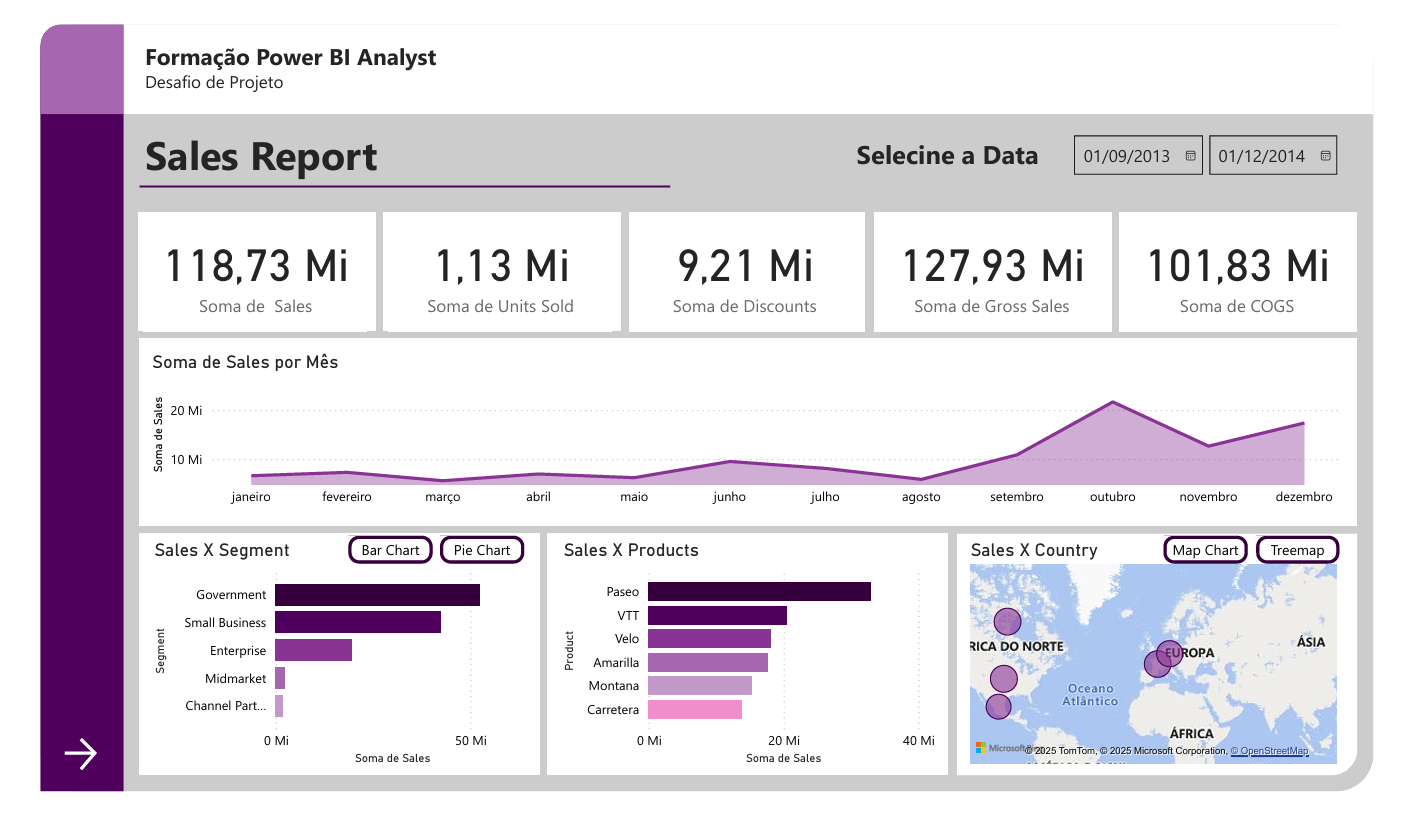

The dashboard page shown, as its layout file describes it:
{"tool":"powerbi","page":{"name":"Página 1","canvas":[1280,720],"ordinal":0},"visuals":[{"type":"group","id":"g1","title":"Fundo","box":[13.8,0,1251.1,719.8],"z":0},{"type":"shape","box":[13.8,0,1251.1,719.8],"z":0,"group":"g1"},{"type":"textbox","box":[107.4,9.6,300,66.1],"z":0,"group":"g4"},{"type":"textbox","box":[775.2,100.1,195.9,44.3],"z":0,"group":"g8"},{"type":"shape","box":[105.8,175.9,223.2,111.2],"z":0,"group":"g2"},{"type":"shape","box":[107.3,294.6,1142.7,175.9],"z":0,"group":"g3"},{"type":"areaChart","fields":{"Category":["financials.Date.Variation.Hierarquia de datas.Mês"],"Y":["Sum(financials. Sales)"]},"box":[114.1,306,1127,154.5],"z":0,"group":"g5"},{"type":"shape","box":[13.8,0,78.5,719.8],"z":1000,"group":"g1"},{"type":"textbox","box":[107.3,91.5,230.3,61.5],"z":1000,"group":"g4"},{"type":"slicer","fields":{"Values":["financials.Date"]},"box":[970.9,94.4,273.2,57.2],"z":1000,"group":"g8"},{"type":"group","id":"g2","title":"Cartões","box":[105.8,175.9,1144.1,111.6],"z":1000},{"type":"card","fields":{"Values":["Sum(financials. Sales)"]},"box":[111.2,175.9,210.2,111.6],"z":1000,"group":"g5"},{"type":"shape","box":[336.1,175.9,223.2,111.2],"z":1000,"group":"g2"},{"type":"shape","box":[490.6,477.7,376.1,227.4],"z":1000,"group":"g3"},{"type":"shape","box":[13.8,0,78.5,84],"z":2000,"group":"g1"},{"type":"card","fields":{"Values":["Sum(financials.Units Sold)"]},"box":[341.5,175.9,210.2,111.6],"z":2000,"group":"g5"},{"type":"shape","box":[566.3,175.9,221.7,111.6],"z":2000,"group":"g2"},{"type":"group","id":"g3","title":"Cartões de Graficos","box":[107.3,294.6,1142.7,410.5],"z":2000},{"type":"shape","box":[107.3,477.7,376.1,227.4],"z":2000,"group":"g3"},{"type":"shape","box":[92.3,0,1172.6,84],"z":3000,"group":"g1"},{"type":"group","id":"g4","title":"Caixas de textos","box":[107.3,9.6,300.1,143.4],"z":3000},{"type":"card","fields":{"Values":["Sum(financials.Discounts)"]},"box":[570.3,175.9,210.2,111.6],"z":3000,"group":"g5"},{"type":"shape","box":[797,175.9,223,111.6],"z":3000,"group":"g2"},{"type":"shape","box":[873.9,477.7,376.1,227.4],"z":3000,"group":"g3"},{"type":"shape","box":[107.3,144.4,497.7,15.7],"z":4000,"group":"g1"},{"type":"group","id":"g5","title":"Dados","box":[111.2,175.9,1131.3,523.4],"z":4000},{"type":"card","fields":{"Values":["Sum(financials.Gross Sales)"]},"box":[802,175.9,210.2,111.6],"z":4000,"group":"g5"},{"type":"shape","box":[1026.9,175.9,223,111.6],"z":4000,"group":"g2"},{"type":"donutChart","title":"Sales X Segment pie","fields":{"Category":["financials.Segment"],"Y":["Sum(financials. Sales)"]},"box":[116.2,483.8,357.5,216.2],"z":4125,"group":"g6"},{"type":"treemap","title":"Sales X Country tree","fields":{"Group":["financials.Country"],"Values":["Sum(financials. Sales)"]},"box":[882.5,483.8,357.5,216.2],"z":4125,"group":"g7"},{"type":"group","id":"g6","title":"Sales X Segment","box":[115.5,480,358.2,220],"z":4250},{"type":"clusteredBarChart","title":"Sales X Segment","fields":{"Y":["Sum(financials. Sales)"],"Category":["financials.Segment"]},"box":[115.5,483.4,357.5,216],"z":4250,"group":"g6"},{"type":"actionButton","title":"Botão bar","box":[302.8,480,78.7,26],"z":4312,"group":"g6"},{"type":"actionButton","title":"Botão pie","box":[388.6,480,78.7,26],"z":4375,"group":"g6"},{"type":"group","id":"g7","title":"Sales X Country","box":[882.1,480,357.9,220],"z":4500},{"type":"map","title":"Sales X Country","fields":{"Size":["Sum(financials. Sales)"],"Category":["financials.Country"]},"box":[882.1,483.4,357.5,216],"z":4625,"group":"g7"},{"type":"actionButton","title":"Botão map","box":[1068.5,480,78.7,26],"z":4750,"group":"g7"},{"type":"actionButton","title":"Botão tree","box":[1154.7,480,78.8,26.2],"z":4875,"group":"g7"},{"type":"group","id":"g8","title":"Data","box":[775.2,94.4,468.9,57.2],"z":5000},{"type":"card","fields":{"Values":["Sum(financials.COGS)"]},"box":[1032.2,175.9,210.2,111.6],"z":5000,"group":"g5"},{"type":"actionButton","title":"Botão seta","box":[30.9,665.3,42.9,40],"z":6000,"group":"g9"},{"type":"clusteredBarChart","title":"Sales X Products","fields":{"Y":["Sum(financials. Sales)"],"Category":["financials.Product"]},"box":[500.2,483.4,357.5,216],"z":7000,"group":"g5"},{"type":"group","id":"g9","title":"Botões","box":[30.9,665.3,43.2,40.7],"z":10001}]}

Visuals, with their boxes in screenshot pixels (x1, y1, x2, y2), scaled from the page's 1280x720 canvas onto the 1415x816 screenshot:
"Fundo" group: (x1=15, y1=0, x2=1398, y2=815)
shape: (x1=15, y1=0, x2=1398, y2=815)
textbox: (x1=119, y1=11, x2=450, y2=86)
textbox: (x1=857, y1=113, x2=1074, y2=164)
shape: (x1=117, y1=199, x2=364, y2=325)
shape: (x1=119, y1=334, x2=1382, y2=533)
areaChart - financials.Date.Variation.Hierarquia de datas.Mês x Sum(financials. Sales): (x1=126, y1=347, x2=1372, y2=522)
shape: (x1=15, y1=0, x2=102, y2=815)
textbox: (x1=119, y1=104, x2=373, y2=173)
slicer - financials.Date: (x1=1073, y1=107, x2=1375, y2=172)
"Cartões" group: (x1=117, y1=199, x2=1382, y2=326)
card - Sum(financials. Sales): (x1=123, y1=199, x2=355, y2=326)
shape: (x1=372, y1=199, x2=618, y2=325)
shape: (x1=542, y1=541, x2=958, y2=799)
shape: (x1=15, y1=0, x2=102, y2=95)
card - Sum(financials.Units Sold): (x1=378, y1=199, x2=610, y2=326)
shape: (x1=626, y1=199, x2=871, y2=326)
"Cartões de Graficos" group: (x1=119, y1=334, x2=1382, y2=799)
shape: (x1=119, y1=541, x2=534, y2=799)
shape: (x1=102, y1=0, x2=1398, y2=95)
"Caixas de textos" group: (x1=119, y1=11, x2=450, y2=173)
card - Sum(financials.Discounts): (x1=630, y1=199, x2=863, y2=326)
shape: (x1=881, y1=199, x2=1128, y2=326)
shape: (x1=966, y1=541, x2=1382, y2=799)
shape: (x1=119, y1=164, x2=669, y2=181)
"Dados" group: (x1=123, y1=199, x2=1374, y2=793)
card - Sum(financials.Gross Sales): (x1=887, y1=199, x2=1119, y2=326)
shape: (x1=1135, y1=199, x2=1382, y2=326)
"Sales X Segment pie" donutChart: (x1=128, y1=548, x2=524, y2=793)
"Sales X Country tree" treemap: (x1=976, y1=548, x2=1371, y2=793)
"Sales X Segment" group: (x1=128, y1=544, x2=524, y2=793)
"Sales X Segment" clusteredBarChart: (x1=128, y1=548, x2=523, y2=793)
"Botão bar" actionButton: (x1=335, y1=544, x2=422, y2=573)
"Botão pie" actionButton: (x1=430, y1=544, x2=517, y2=573)
"Sales X Country" group: (x1=975, y1=544, x2=1371, y2=793)
"Sales X Country" map: (x1=975, y1=548, x2=1370, y2=793)
"Botão map" actionButton: (x1=1181, y1=544, x2=1268, y2=573)
"Botão tree" actionButton: (x1=1276, y1=544, x2=1364, y2=574)
"Data" group: (x1=857, y1=107, x2=1375, y2=172)
card - Sum(financials.COGS): (x1=1141, y1=199, x2=1373, y2=326)
"Botão seta" actionButton: (x1=34, y1=754, x2=82, y2=799)
"Sales X Products" clusteredBarChart: (x1=553, y1=548, x2=948, y2=793)
"Botões" group: (x1=34, y1=754, x2=82, y2=800)
